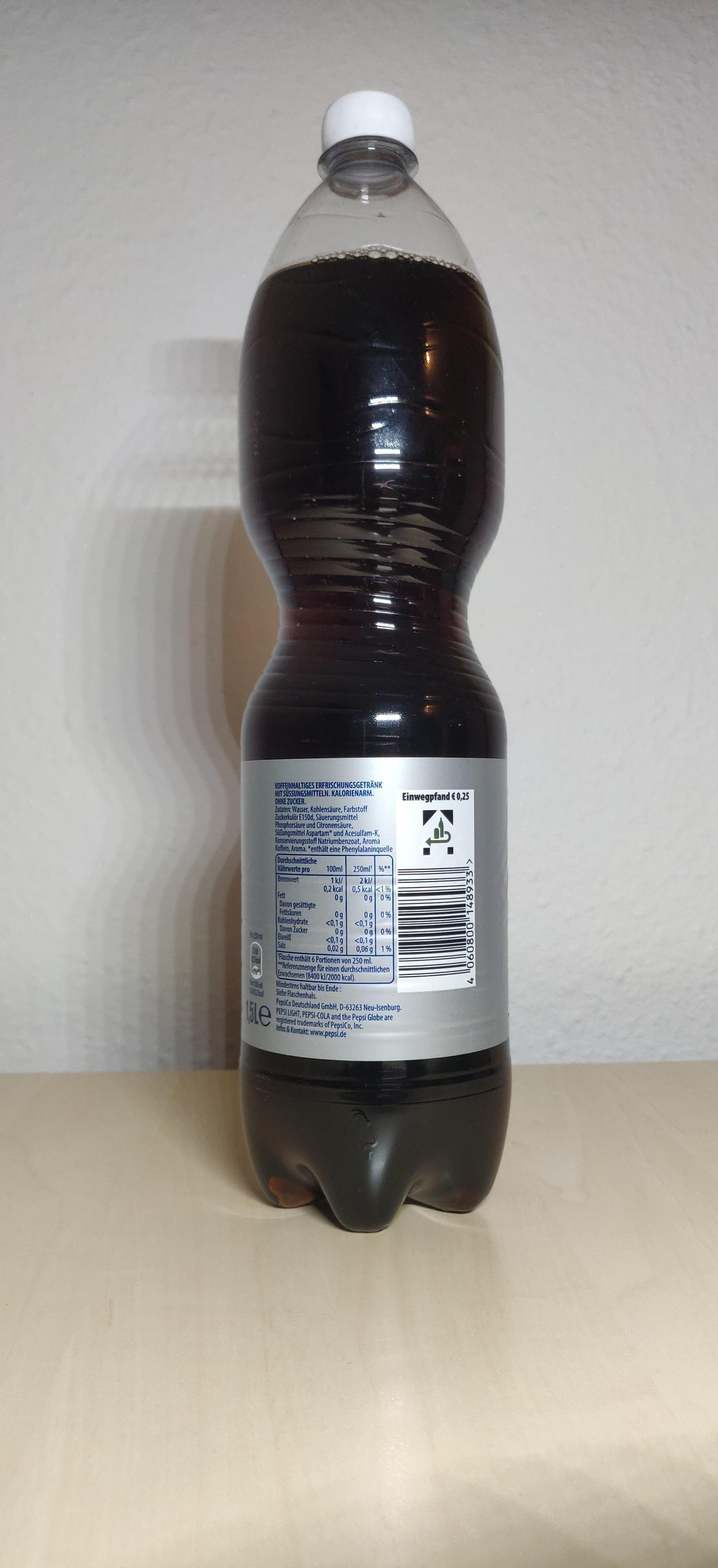bottle-plastic: (234, 87, 506, 1241)
